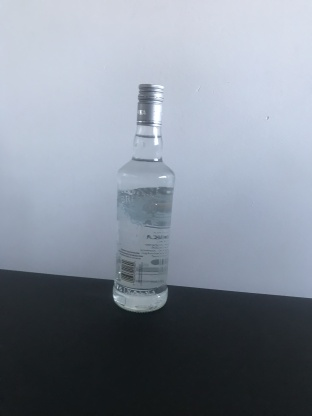nakretka: (135, 80, 164, 127)
